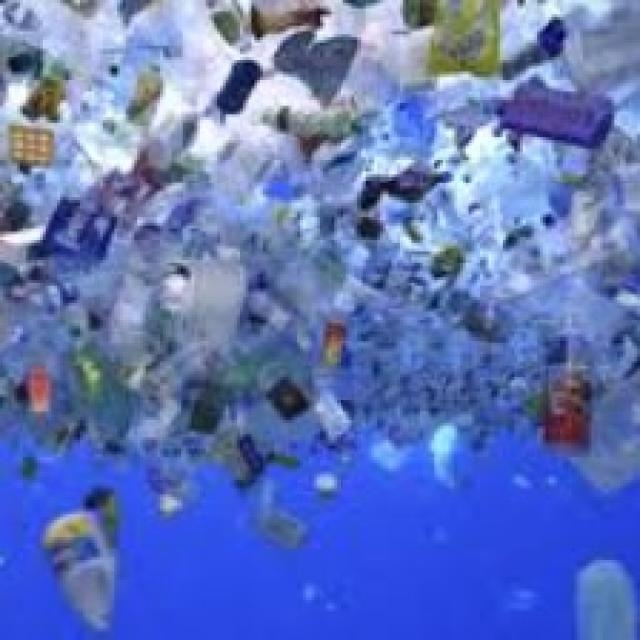heap: (22, 3, 640, 437)
plastic_bag: (125, 1, 234, 119), (211, 109, 303, 204)
plastic_bottle: (43, 511, 123, 639), (544, 360, 597, 464)
